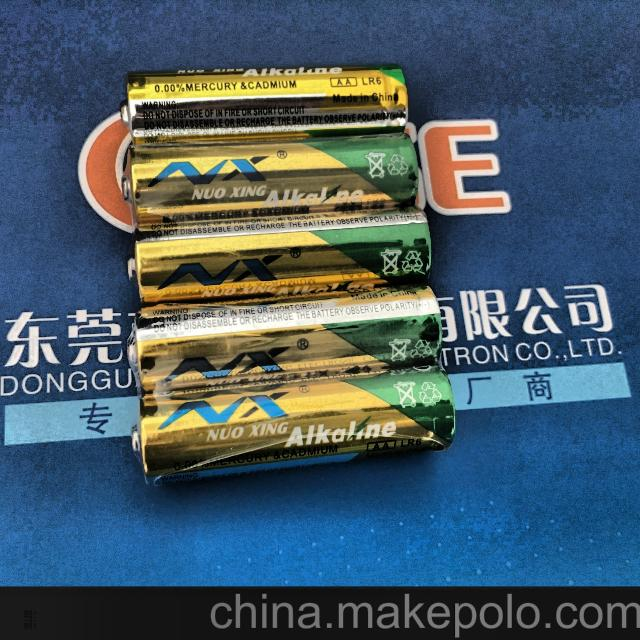Non-Valuable Waste - Batteries: (132, 365, 455, 484), (132, 285, 441, 395), (130, 208, 430, 306), (129, 134, 416, 228), (121, 65, 408, 145)
